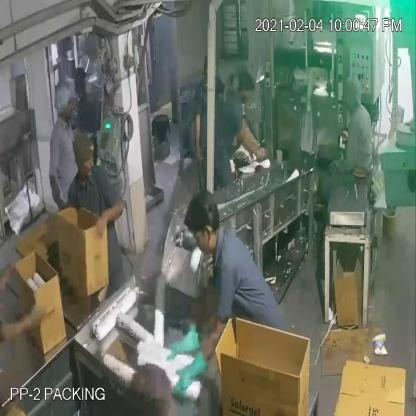glove: (174, 350, 213, 400), (164, 315, 200, 358)
no_glove: (1, 294, 52, 342), (84, 201, 130, 249), (238, 117, 270, 165), (194, 105, 206, 173)
